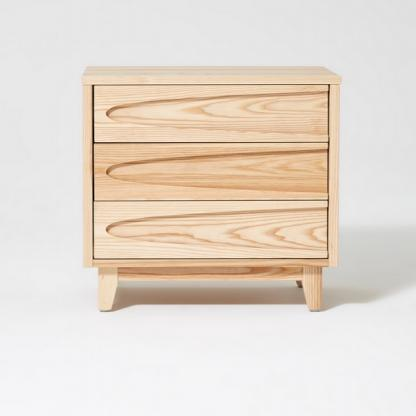Nightstand: (79, 64, 341, 313)
